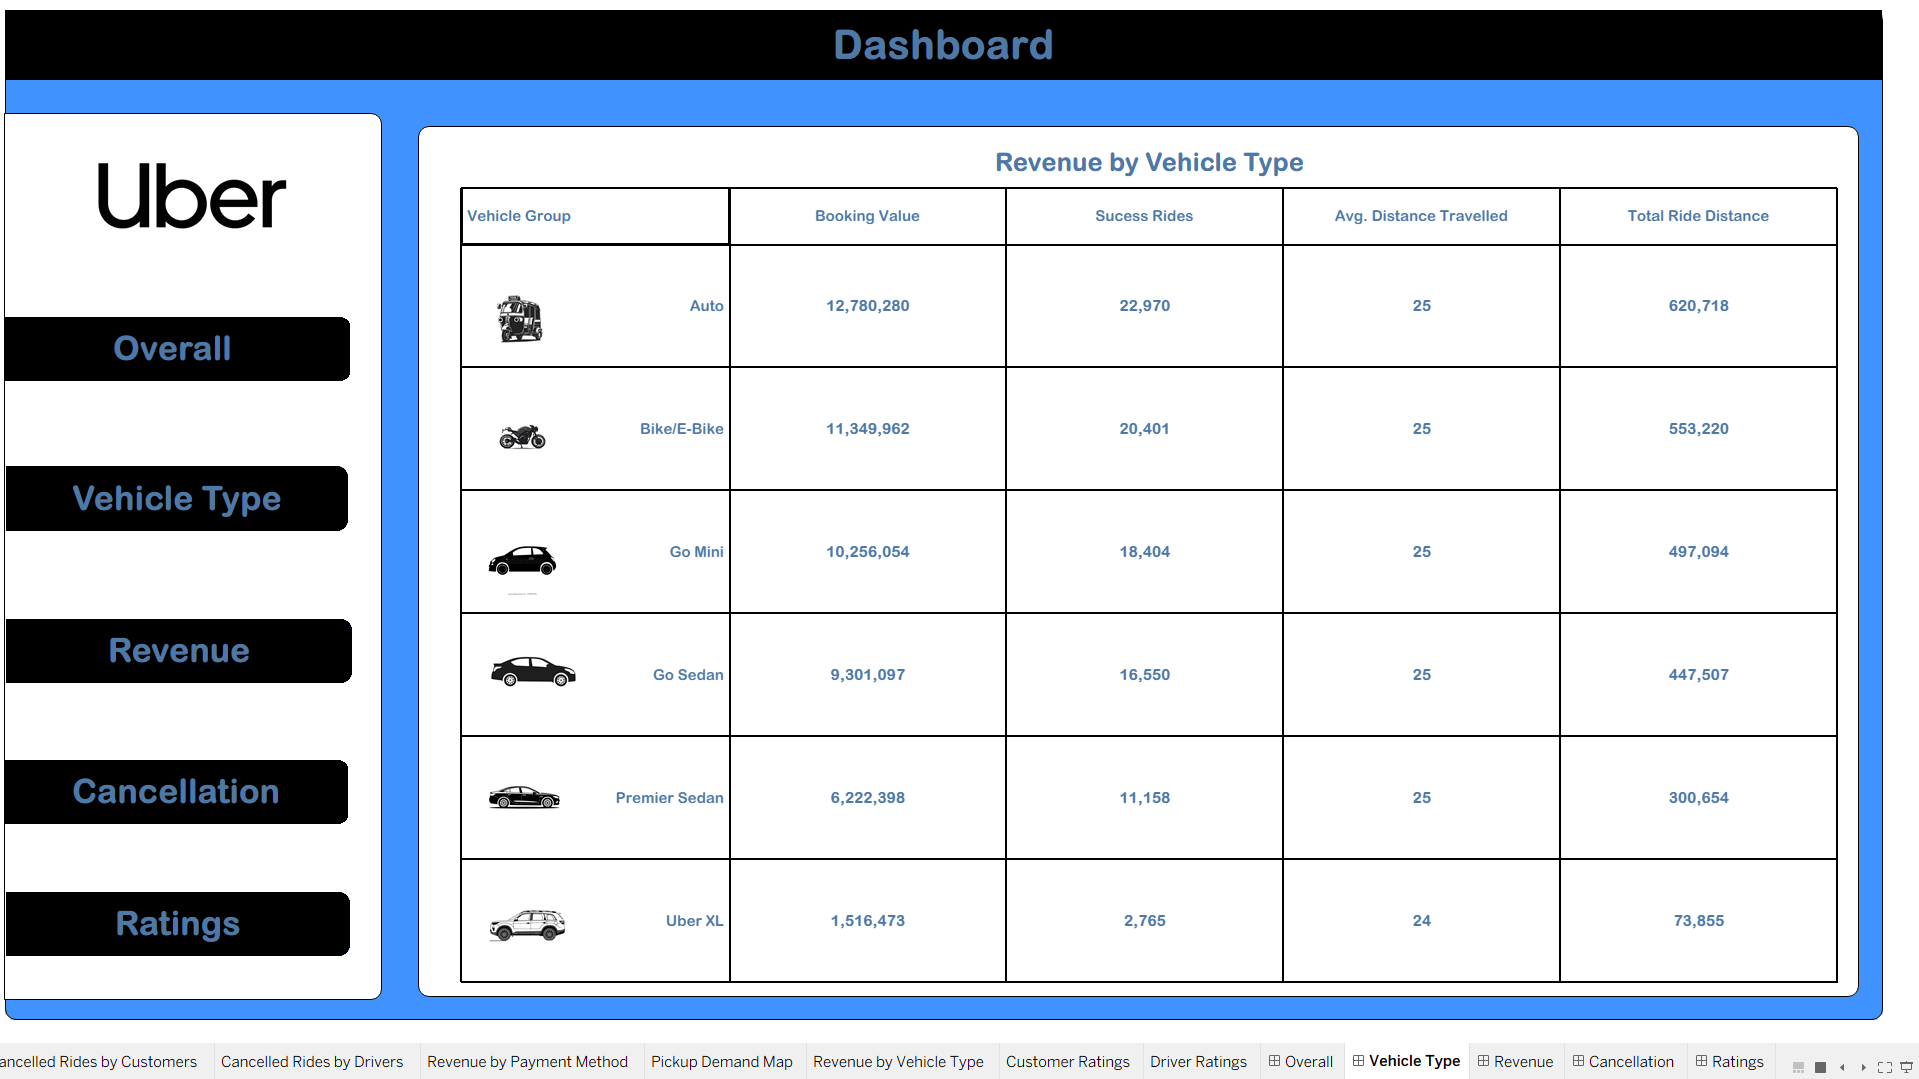

Layout of this report page (visuals, bound fields, positions):
{"tool":"tableau","page":{"name":"Vehicle Type","canvas":[1000,1000],"units":"permille","ordinal":4},"visuals":[{"type":"text","box":[2.4,9.4,977.7,67]},{"type":"blank","box":[2.3,108.1,196.8,850.8]},{"type":"image","param":"Image/download.png","box":[2.3,109.3,196.2,156.3]},{"type":"blank","box":[217.9,121,750.8,835.5]},{"type":"worksheet","title":"Revenue by Vehicle Type","mark":"Automatic","rows":["Vehicle Group"],"box":[239.6,137.5,717.6,804.9]},{"type":"image","param":"Image/Auto.jpg","box":[247.4,276.2,76.6,75.2]},{"type":"dashboard-object","box":[2.3,304.4,180.4,61.1]},{"type":"image","param":"Image/Bike.png","box":[249.8,394.8,76.6,75.2]},{"type":"dashboard-object","box":[2.9,446.5,178.1,62.3]},{"type":"image","param":"Image/Go Mini.jpg","box":[251.1,506.5,76.6,78.7]},{"type":"dashboard-object","box":[2.9,593.4,180.4,61.1]},{"type":"image","param":"Image/Go Sedan.png","box":[253.5,613.4,76.6,77.6]},{"type":"dashboard-object","box":[2.3,728.6,179.3,61.1]},{"type":"image","param":"Image/Premiem Sudien.jpg","box":[249.8,730.9,76.6,75.2]},{"type":"image","param":"Image/UberXL.png","box":[251.7,844.9,76.6,79.9]},{"type":"dashboard-object","box":[2.9,855.5,179.3,61.1]}]}

Visuals, with their boxes on the dashboard's canvas, which has no fixed pixel size, in thousandths of its width and height (x1, y1, x2, y2). These are canvas units, not pixel positions in the 1919x1079 screenshot, which may show the page scaled, cropped or inside an application window:
text: (left=2, top=9, right=980, bottom=76)
blank: (left=2, top=108, right=199, bottom=959)
image: (left=2, top=109, right=198, bottom=266)
blank: (left=218, top=121, right=969, bottom=956)
"Revenue by Vehicle Type" worksheet: (left=240, top=138, right=957, bottom=942)
image: (left=247, top=276, right=324, bottom=351)
dashboard-object: (left=2, top=304, right=183, bottom=366)
image: (left=250, top=395, right=326, bottom=470)
dashboard-object: (left=3, top=446, right=181, bottom=509)
image: (left=251, top=506, right=328, bottom=585)
dashboard-object: (left=3, top=593, right=183, bottom=654)
image: (left=254, top=613, right=330, bottom=691)
dashboard-object: (left=2, top=729, right=182, bottom=790)
image: (left=250, top=731, right=326, bottom=806)
image: (left=252, top=845, right=328, bottom=925)
dashboard-object: (left=3, top=856, right=182, bottom=917)
